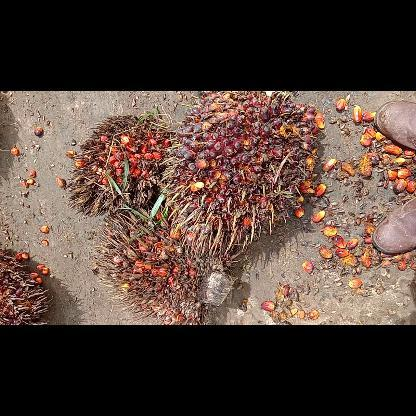TBS masak: (159, 92, 320, 258)
Terlalu masak: (95, 206, 237, 324), (64, 112, 174, 222)
